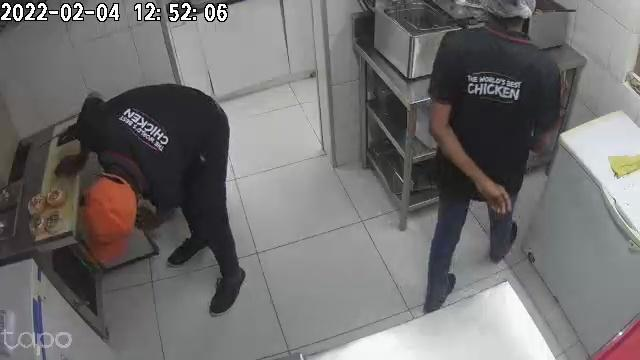no_gloves: (470, 163, 511, 214)
